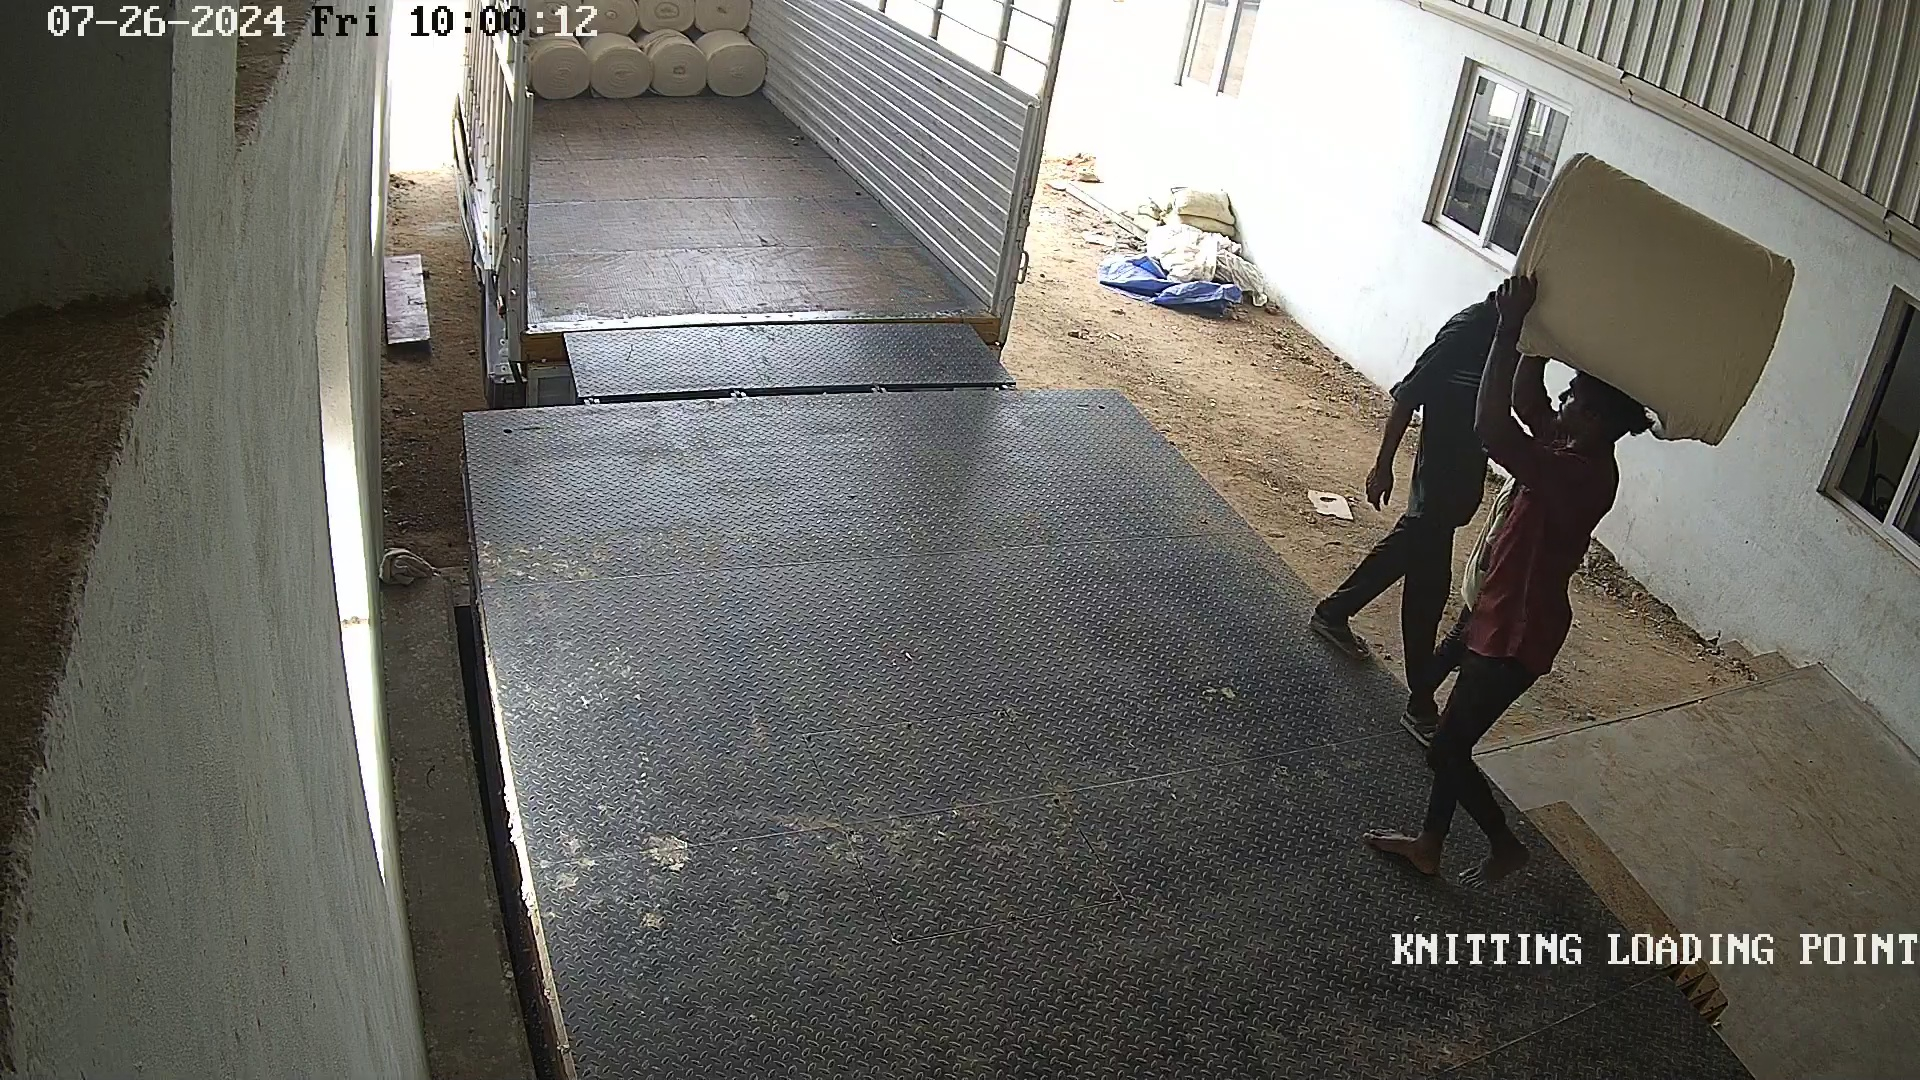bag: (1494, 146, 1803, 451)
